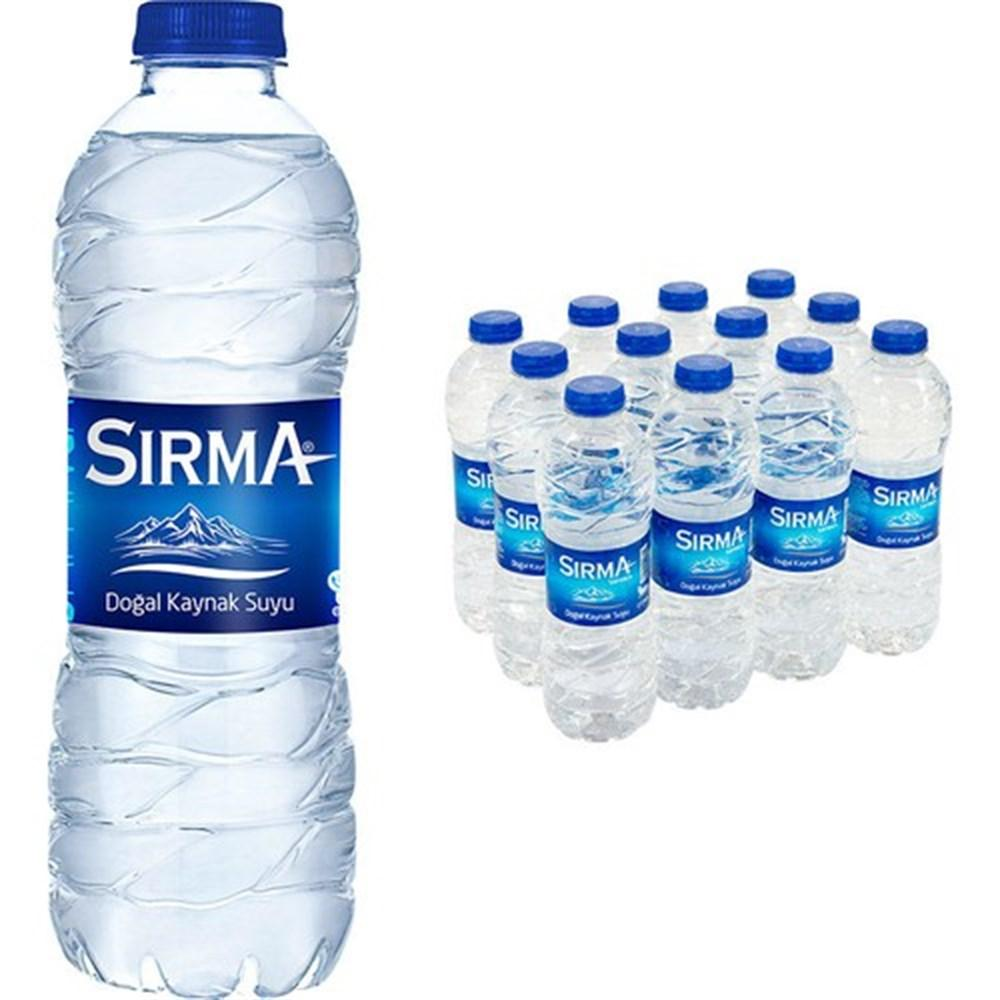bottle: (33, 0, 378, 1000), (533, 362, 653, 762)
